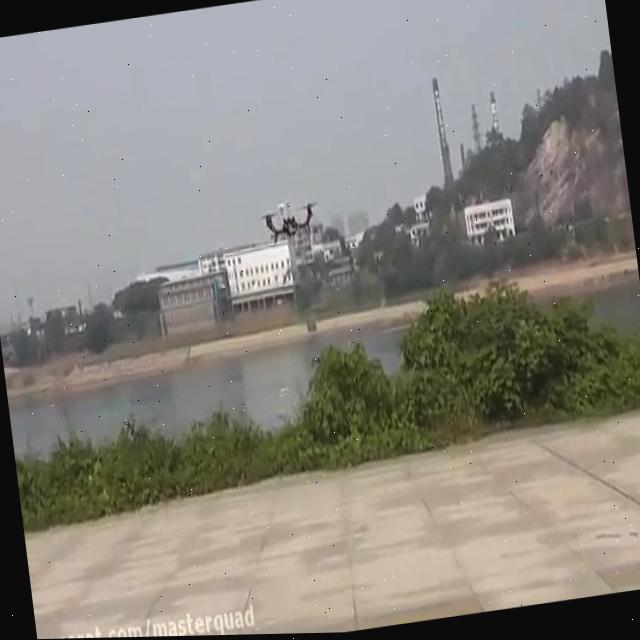drone: (254, 182, 327, 250)
